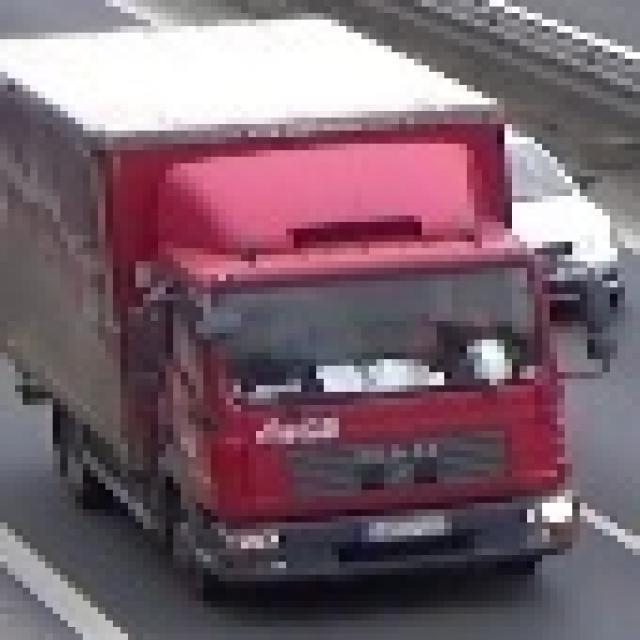truck: (7, 6, 625, 582)
